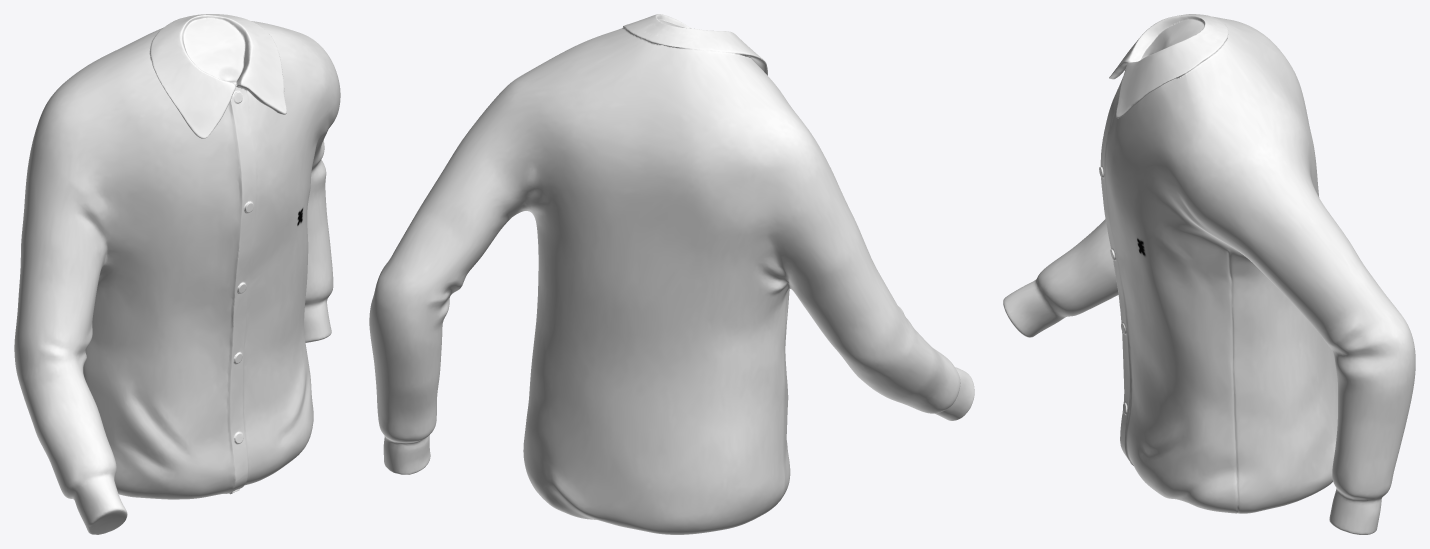
The model's file is Male_Shirt_WhiteTucked.glb.
3 views of the same model, side by side, from view 1: azimuth 30°, elevation 25°; view 2: azimuth 150°, elevation 25°; view 3: azimuth 270°, elevation 25° (orthographic). The views are drawn at different scales.
Parts seen in each view (by area): view 1: IVB SHIRT TUCKED WHITE 02; view 2: IVB SHIRT TUCKED WHITE 02; view 3: IVB SHIRT TUCKED WHITE 02.
Part boxes in pixels (x1,y1,x2,y2): IVB SHIRT TUCKED WHITE 02: (14,14,340,534); IVB SHIRT TUCKED WHITE 02: (369,14,974,534); IVB SHIRT TUCKED WHITE 02: (1003,14,1415,534).
Size of the model in its own units: 0.967 by 0.9975 by 0.84.
Materials: 1 (1 with a texture image).
